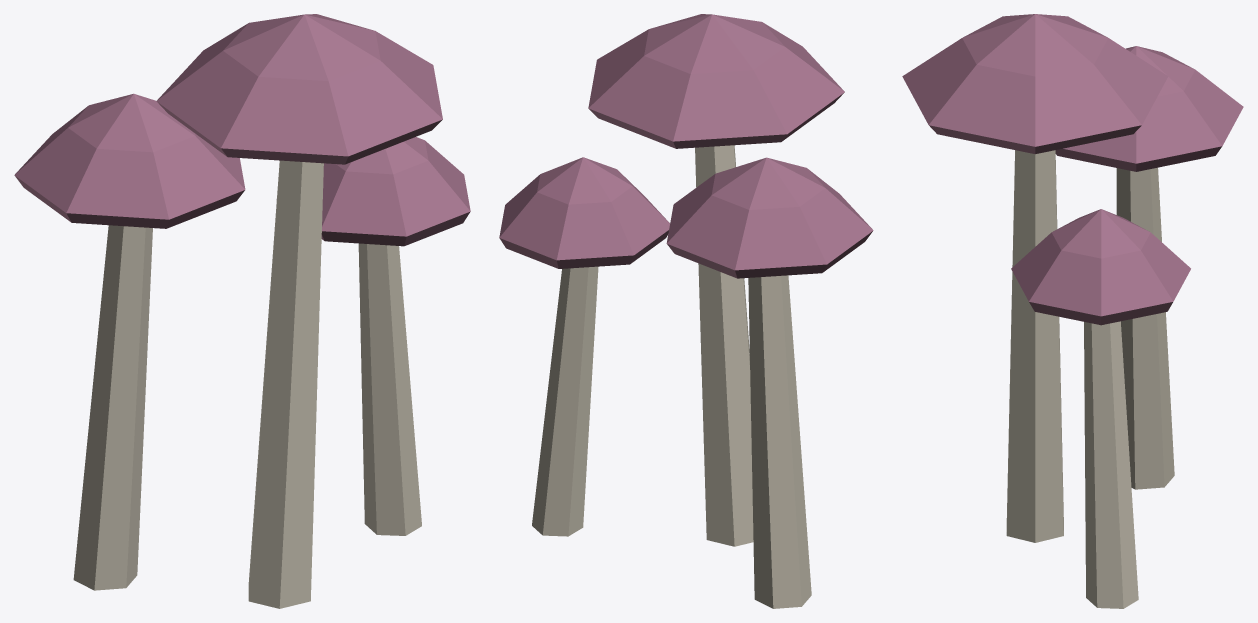
File: fungus_tall.glb
The picture shows the model from 3 angles, left to right: view 1: azimuth 30°, elevation 25°; view 2: azimuth 150°, elevation 25°; view 3: azimuth 270°, elevation 25°; orthographic projection. The views are drawn at different scales.
Parts seen in each view (by area): view 1: fungus_tall; view 2: fungus_tall; view 3: fungus_tall.
Part boxes in pixels (x1,y1,x2,y2): fungus_tall: (14,14,470,608); fungus_tall: (499,14,873,608); fungus_tall: (902,14,1243,608).
Size of the model in its own units: 1.95 by 2.64 by 1.55.
